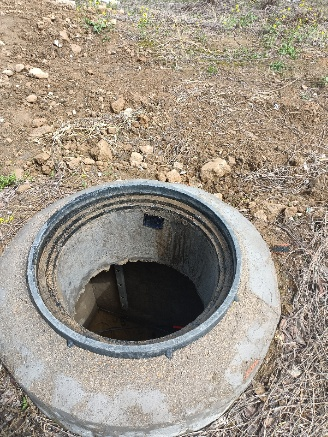lose: (27, 180, 241, 360)
